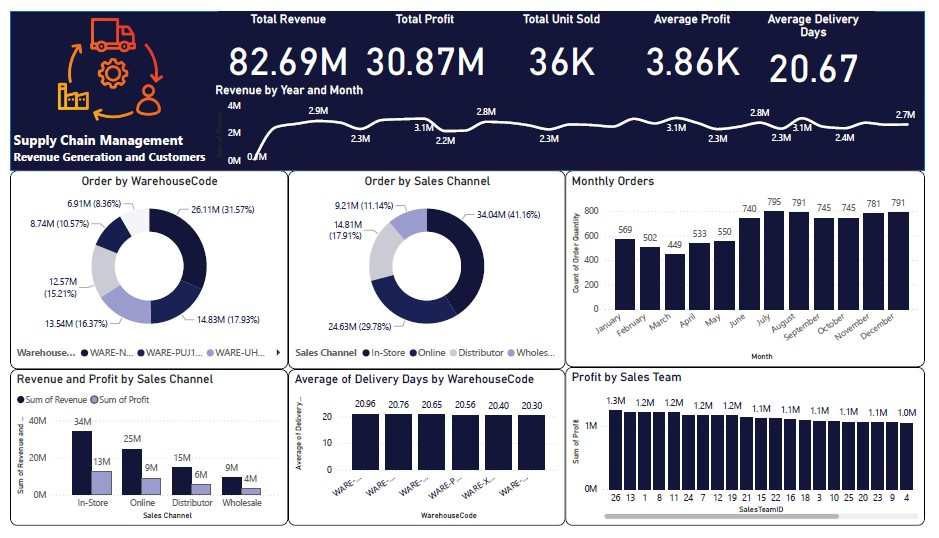

The dashboard page shown, as its layout file describes it:
{"tool":"powerbi","page":{"name":"Sales","canvas":[1280,720],"ordinal":0},"visuals":[{"type":"shape","box":[0,0,1279.8,223.3],"z":0},{"type":"textbox","box":[0,161.6,315.9,73.5],"z":1000},{"type":"image","box":[33.8,0,211.6,161.6],"z":2000},{"type":"card","title":"Total Revenue","fields":{"Values":["Sum(main.Revenue)"]},"box":[290.9,0,196.9,107.3],"z":3000},{"type":"card","title":"Total Profit","fields":{"Values":["Sum(main.Profit)"]},"box":[487.8,0,185.1,107.3],"z":4000},{"type":"card","title":"Total Unit Sold","fields":{"Values":["Sum(main.Order Quantity)"]},"box":[673,0,196.9,107.3],"z":5000},{"type":"card","title":"Average Profit","fields":{"Values":["Avg(main.Profit)"]},"box":[869.9,0,169,107.3],"z":6000},{"type":"card","title":"Average Delivery Days","fields":{"Values":["Avg(main.Delivery Days)"]},"box":[1038.9,0,170.4,107.3],"z":7000},{"type":"donutChart","title":"Order by WarehouseCode","fields":{"Category":["main.WarehouseCode"],"Y":["Sum(main.Revenue)"]},"box":[0,223.3,389.4,277.7],"z":8000},{"type":"lineChart","title":"Revenue by Year and Month","fields":{"Y":["Sum(main.Revenue)"],"Category":["main.OrderDate.Variation.Date Hierarchy.Year","main.OrderDate.Variation.Date Hierarchy.Month"]},"box":[282.1,99.9,988.9,123.4],"z":9000},{"type":"donutChart","title":"Order by Sales Channel","fields":{"Category":["main.Sales Channel"],"Y":["Sum(main.Revenue)"]},"box":[389.4,223.3,387.9,277.7],"z":10000},{"type":"clusteredColumnChart","title":"Monthly Orders","fields":{"Y":["CountNonNull(main.Order Quantity)"],"Category":["main.OrderDate.Variation.Date Hierarchy.Month"]},"box":[777.3,223.3,502.5,274.8],"z":11000},{"type":"clusteredColumnChart","title":"Profit by Sales Team","fields":{"Category":["main.SalesTeamID"],"Y":["Sum(main.Profit)"]},"box":[777.3,498.1,502.5,221.9],"z":12000},{"type":"clusteredColumnChart","title":"Revenue and Profit by Sales Channel","fields":{"Category":["main.Sales Channel"],"Y":["Sum(main.Revenue)","Sum(main.Profit)"]},"box":[0,501.1,389.4,218.9],"z":13000},{"type":"clusteredColumnChart","fields":{"Category":["main.WarehouseCode"],"Y":["Avg(main.Delivery Days)"]},"box":[389,501,388,219],"z":14000}]}

Visuals, with their boxes in screenshot pixels (x1, y1, x2, y2), scaled from the page's 1280x720 canvas onto the 939x538 screenshot:
shape: 0,0,938,167
textbox: 0,121,232,176
image: 25,0,180,121
"Total Revenue" card: 213,0,358,80
"Total Profit" card: 358,0,494,80
"Total Unit Sold" card: 494,0,638,80
"Average Profit" card: 638,0,762,80
"Average Delivery Days" card: 762,0,887,80
"Order by WarehouseCode" donutChart: 0,167,286,374
"Revenue by Year and Month" lineChart: 207,75,932,167
"Order by Sales Channel" donutChart: 286,167,570,374
"Monthly Orders" clusteredColumnChart: 570,167,938,372
"Profit by Sales Team" clusteredColumnChart: 570,372,938,537
"Revenue and Profit by Sales Channel" clusteredColumnChart: 0,374,286,537
clusteredColumnChart - main.WarehouseCode x Avg(main.Delivery Days): 285,374,570,537
